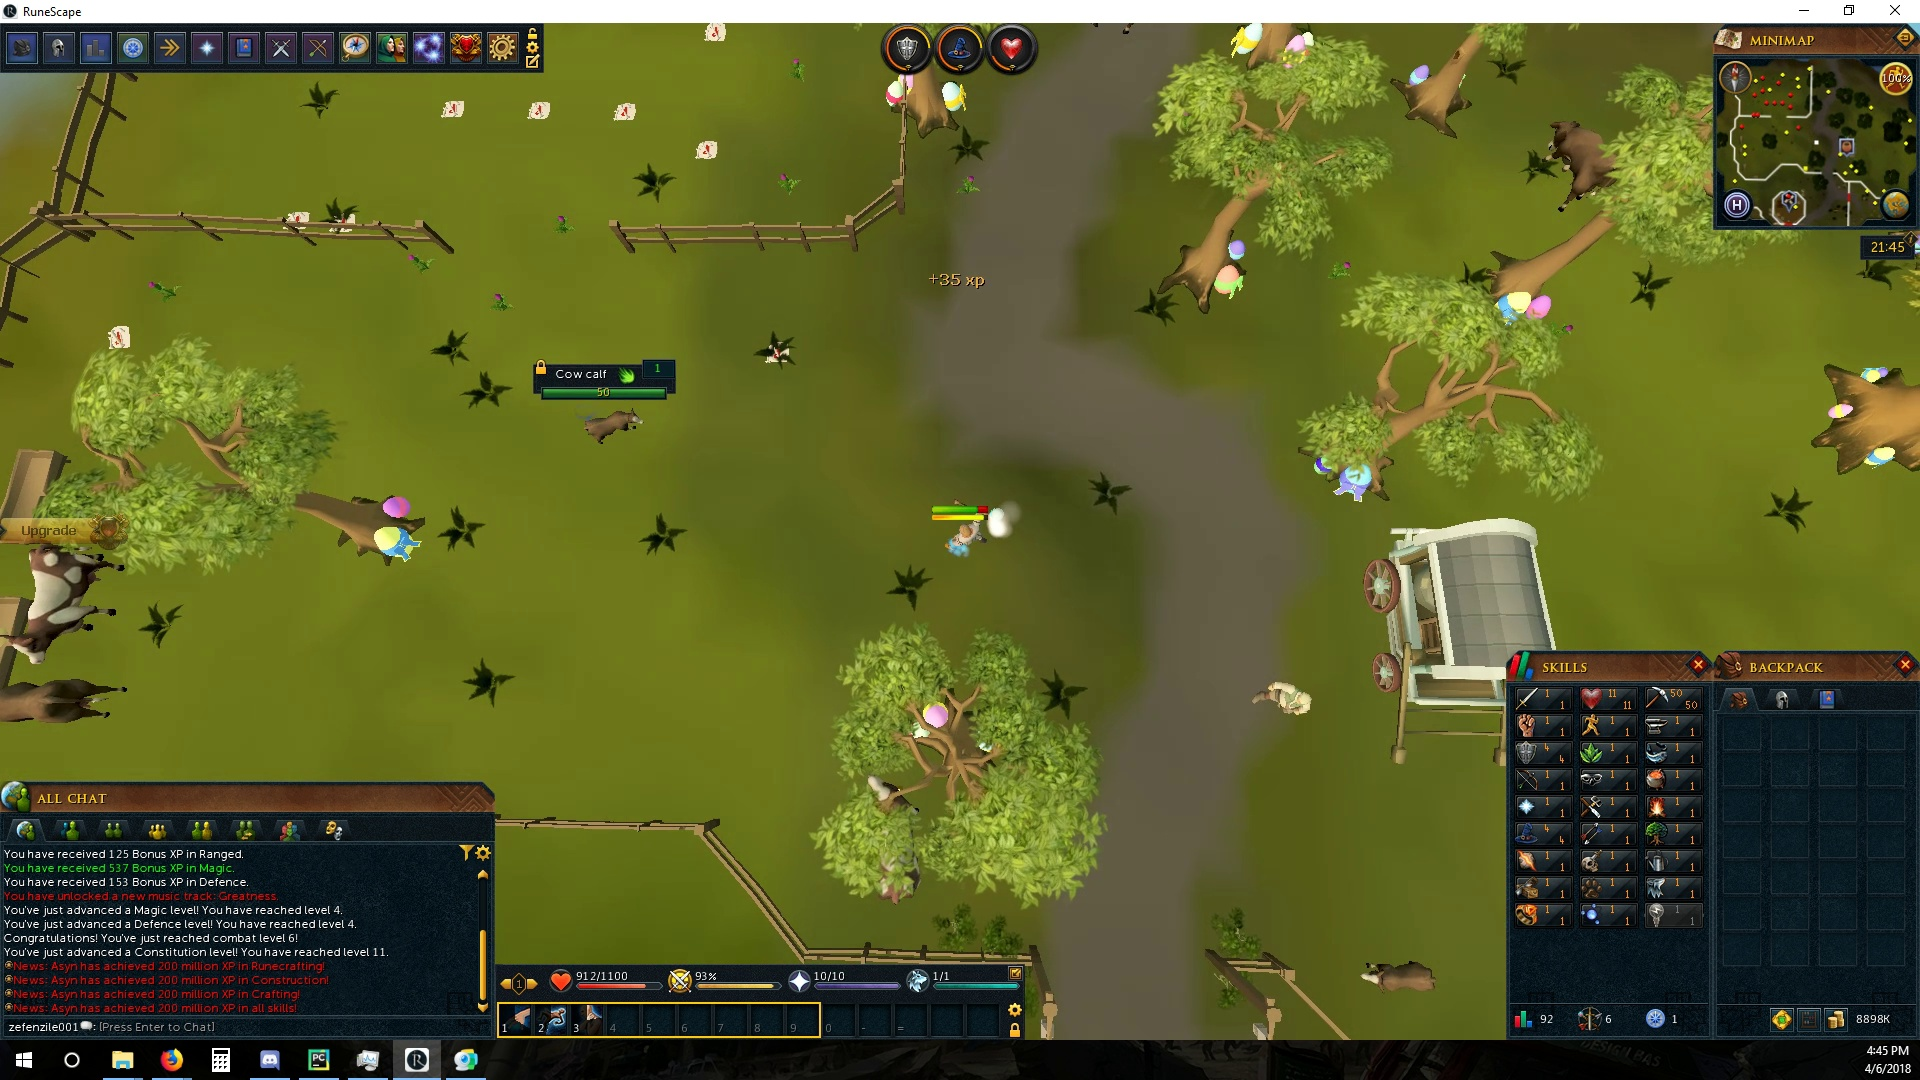calf: (1360, 953, 1443, 1000), (582, 407, 647, 450)
cow: (1, 543, 128, 673), (855, 774, 927, 905), (1544, 119, 1627, 215), (1, 676, 131, 728)
cow_drop: (102, 322, 136, 352), (698, 22, 729, 49), (282, 206, 313, 231), (526, 94, 550, 123), (692, 136, 719, 161), (611, 102, 640, 121), (438, 98, 463, 119)
